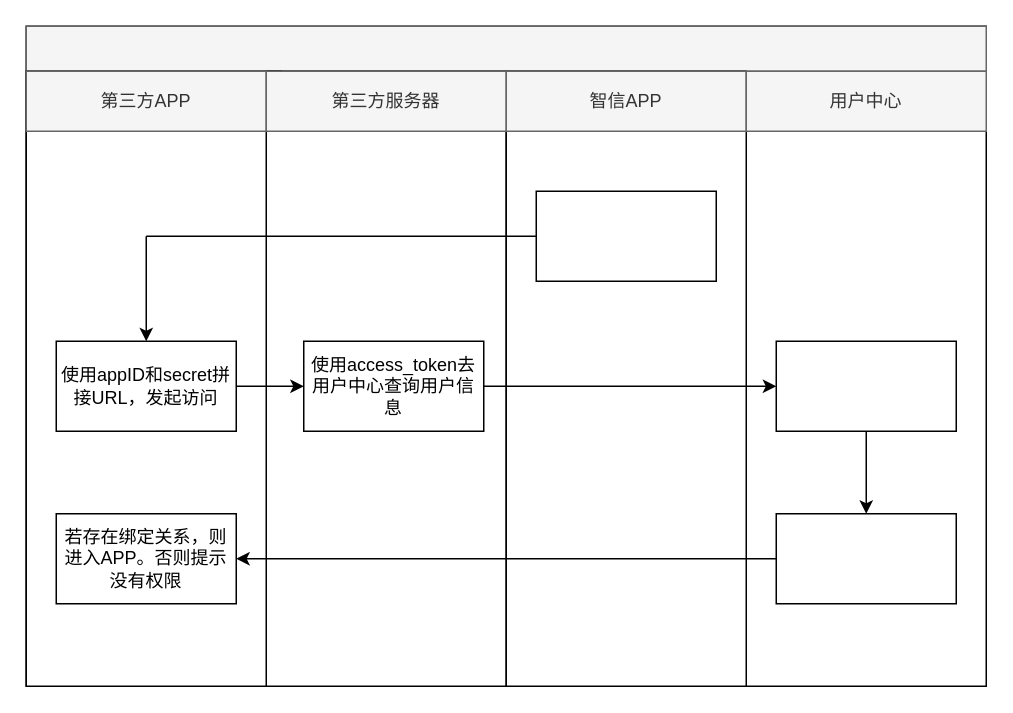
Image size: 1013x713. Some labels were removed from this diagram. Each missing label, with the box of its shape:
使用access_token查询用户信息: (775, 340, 956, 431)
提供access_token: (535, 190, 716, 281)
第三方应用授权流程: (25, 25, 986, 71)
若存在绑定关系，则返回成功: (775, 512, 956, 604)
